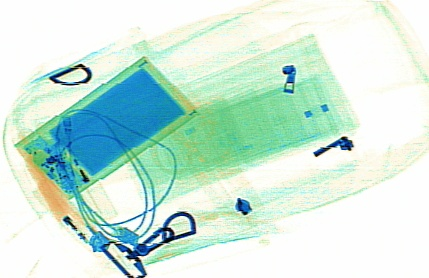lighter: (49, 137, 118, 222), (33, 177, 111, 252)
